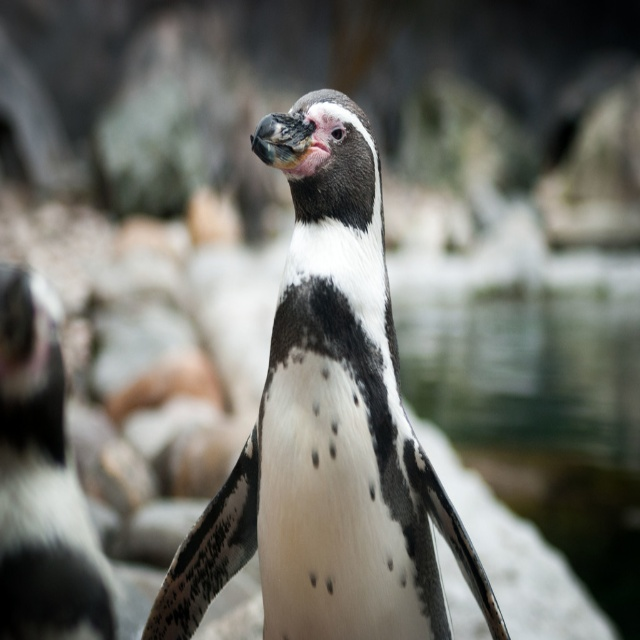Penguin: (144, 90, 512, 639), (0, 259, 118, 639)
